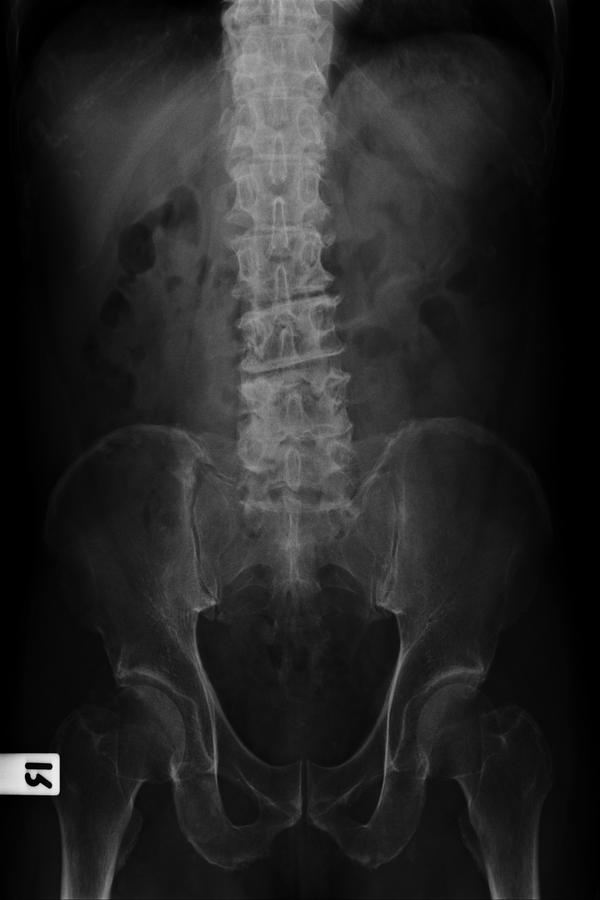lumbar scoliosis: (219, 6, 361, 490)
